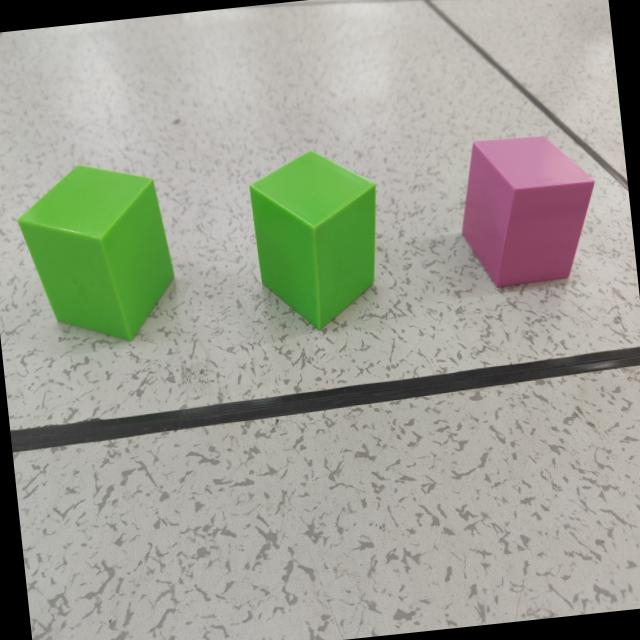green: (16, 166, 175, 343), (249, 152, 377, 330)
pink: (462, 136, 594, 292)
